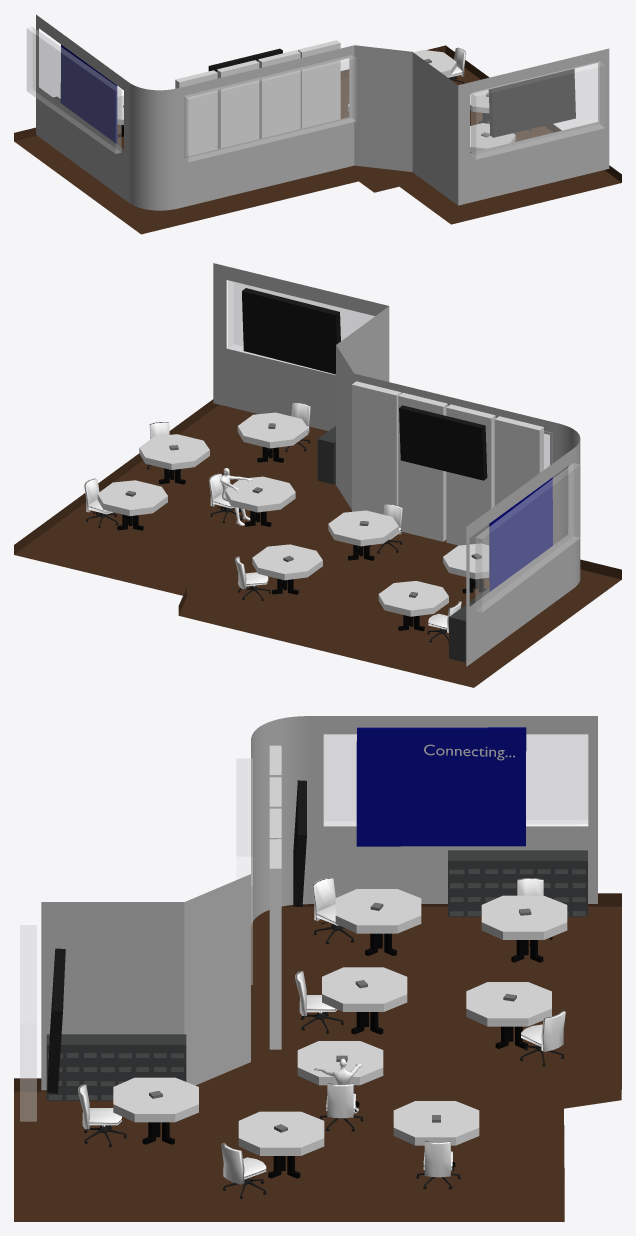
Rendered from projetoInterPessoa3.glb.
3 views of the same model, one above another, from view 1: azimuth 30°, elevation 25°; view 2: azimuth 150°, elevation 25°; view 3: azimuth 270°, elevation 25° (orthographic). The views are drawn at different scales.
Visible parts, largest first — view 1: Cube, Plane, Cube.062, Cube.007, Cube.063, Cube.008, Cube.009, Cube.011, Cube.010, Cube.003, Cube.012, Cube.021 (+3 smaller); view 2: Plane, Cube, Cube.063, Cube.008, Cube.003, Cube.006, Cube.009, Cube.010, Cube.011, Cube.012, Cube.007, Cube.021 (+9 smaller); view 3: Plane, Cube, Cube.009, Cube.063, Cube.001, Cube.002, Cube.021, Cube.037, Cube.036, Cube.020, Cube.029, Cube.044 (+11 smaller).
Boxes of the visible parts, box(x1,y1,x2,y2) form: Cube: box(36, 14, 609, 210); Plane: box(14, 45, 621, 234); Cube.062: box(184, 55, 356, 161); Cube.007: box(471, 61, 604, 159); Cube.063: box(27, 27, 121, 153); Cube.008: box(488, 69, 575, 137); Cube.009: box(60, 44, 117, 143); Cube.011: box(217, 60, 259, 148); Cube.010: box(258, 50, 300, 138); Cube.003: box(298, 40, 340, 128); Cube.012: box(175, 70, 217, 156); Cube.021: box(470, 123, 515, 152); Plane: box(14, 399, 621, 687); Cube: box(213, 263, 580, 666); Cube.063: box(475, 463, 580, 611); Cube.008: box(242, 288, 340, 374); Cube.003: box(352, 381, 401, 514); Cube.006: box(399, 405, 487, 480); Cube.009: box(489, 477, 552, 591); Cube.010: box(398, 392, 447, 541); Cube.011: box(446, 404, 495, 545); Cube.012: box(494, 416, 543, 505); Cube.007: box(228, 280, 374, 374); Cube.021: box(237, 412, 308, 448); Plane: box(14, 893, 621, 1221); Cube: box(41, 716, 597, 1090); Cube.009: box(356, 727, 526, 846); Cube.063: box(324, 734, 587, 825); Cube.001: box(448, 850, 587, 916); Cube.002: box(46, 1034, 186, 1100); Cube.021: box(113, 1077, 198, 1122); Cube.037: box(481, 895, 567, 939); Cube.036: box(335, 889, 421, 933); Cube.020: box(238, 1111, 324, 1155); Cube.029: box(322, 967, 407, 1011); Cube.044: box(466, 982, 551, 1026).
Bounding box in the file's own units: 88.29 × 26.34 × 71.98.
